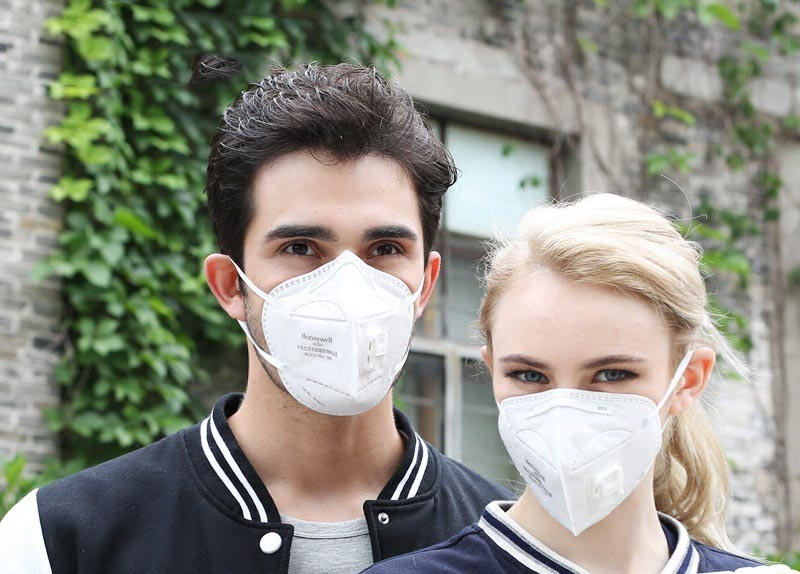face_mask: (238, 160, 428, 398), (489, 283, 679, 493)
